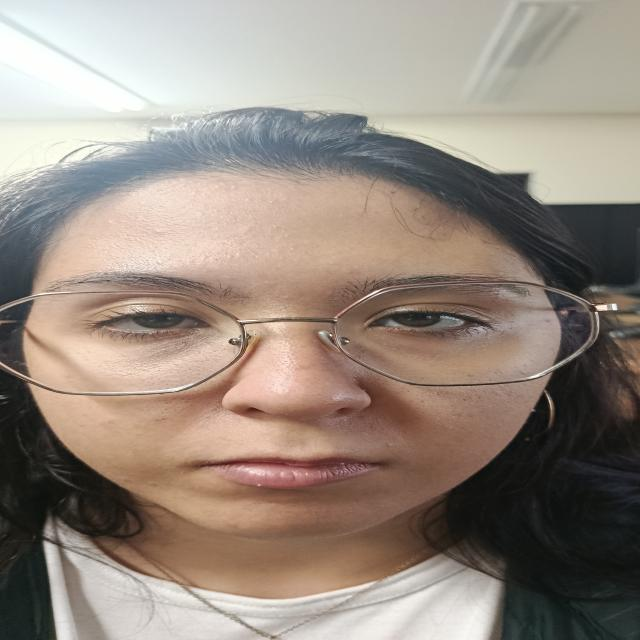sem_oculos: (0, 280, 598, 397)
